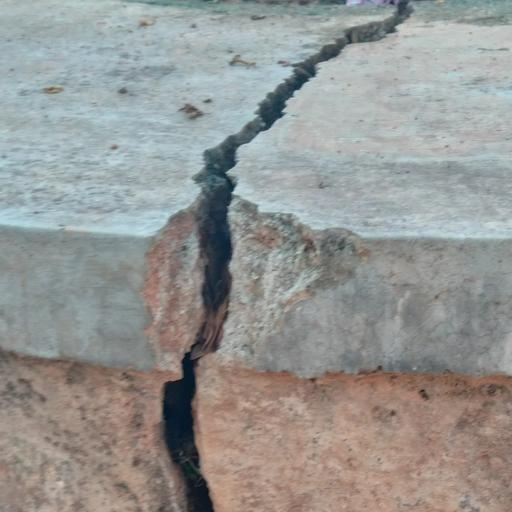major_crack: (152, 0, 418, 512)
